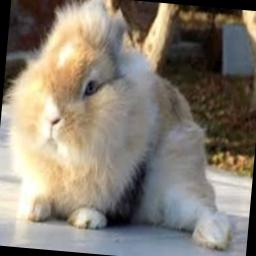rabbit: (8, 0, 230, 247)
